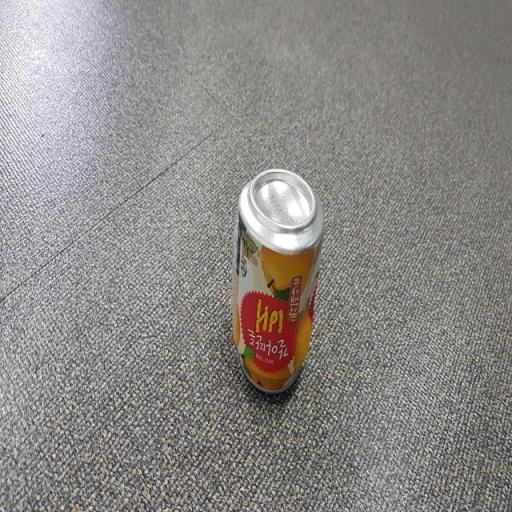metal: (224, 158, 326, 408)
